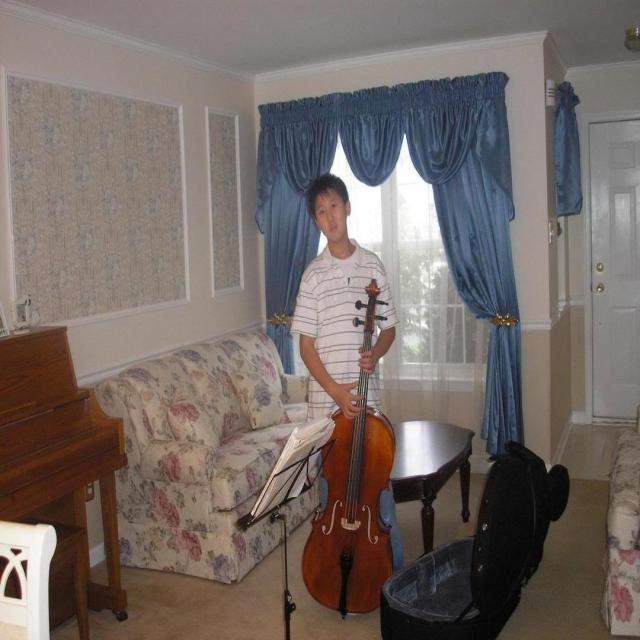cello: (300, 278, 395, 621)
